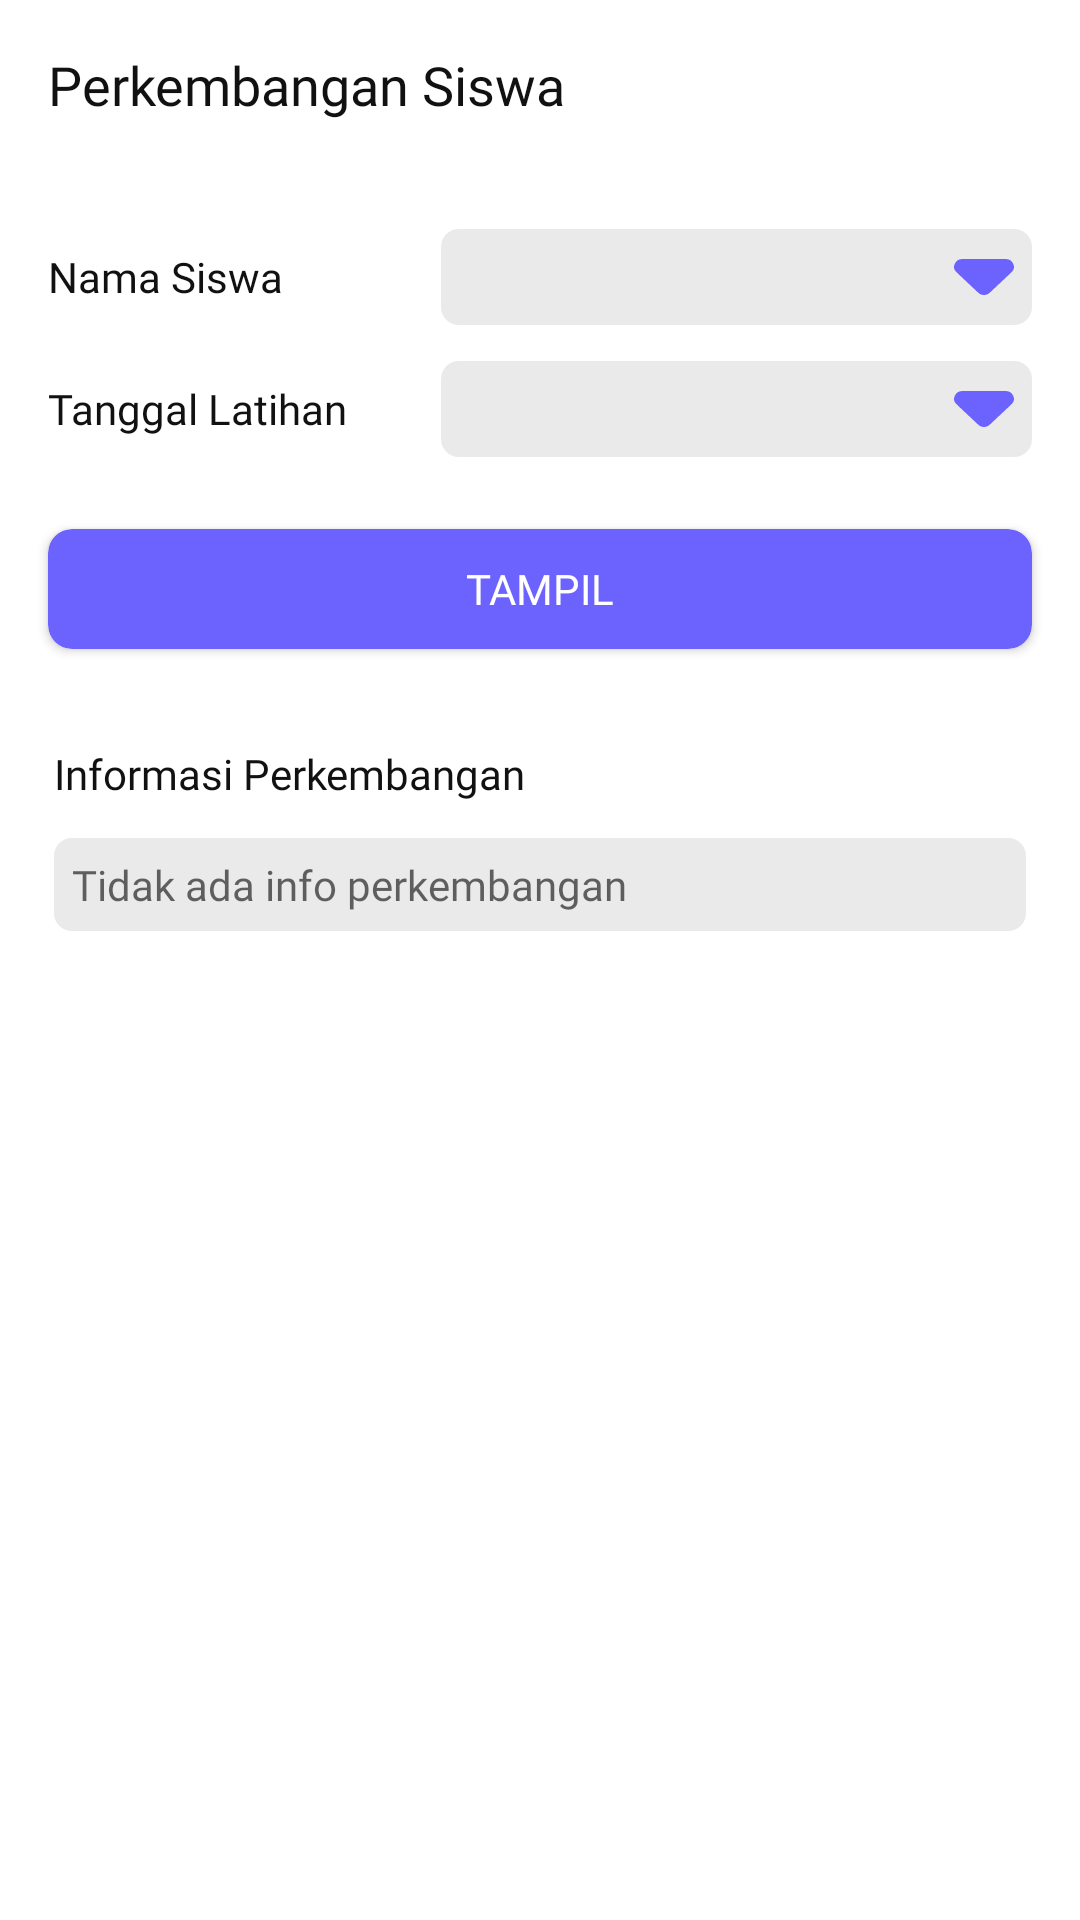

Screen size 1080x1920. Icon name, then its box in pixels as (x1, y1, x2, y2):
sic down arrow: (954, 259, 1014, 295), (954, 391, 1014, 427)
